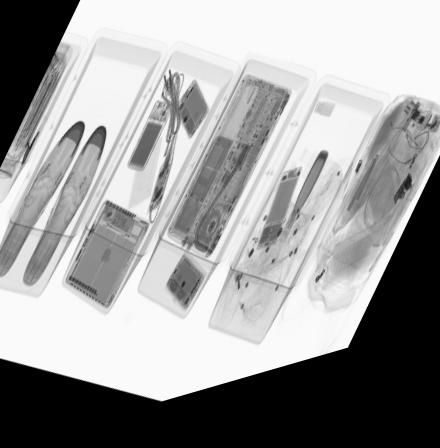Powerbank: (123, 105, 176, 181)
